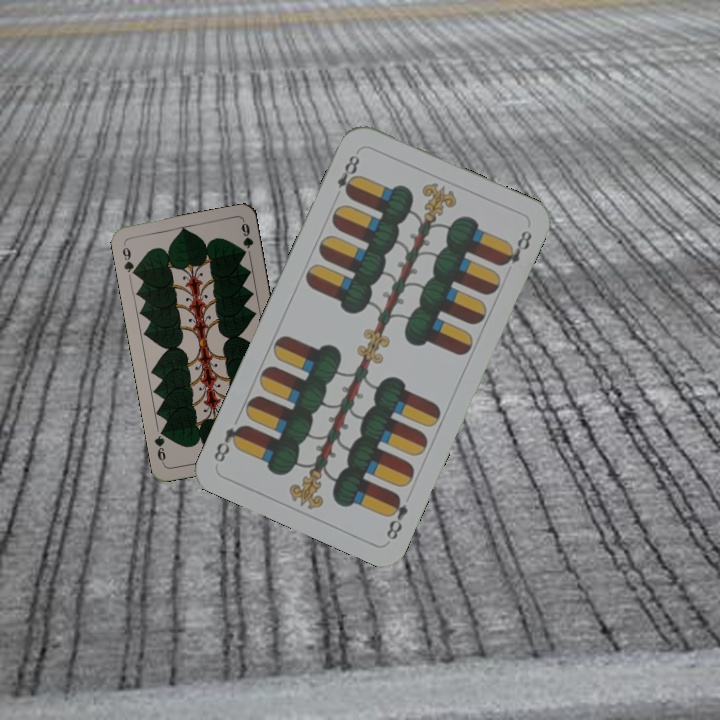E8: (332, 147, 363, 200), (382, 489, 411, 543)
G9: (118, 240, 140, 279)
